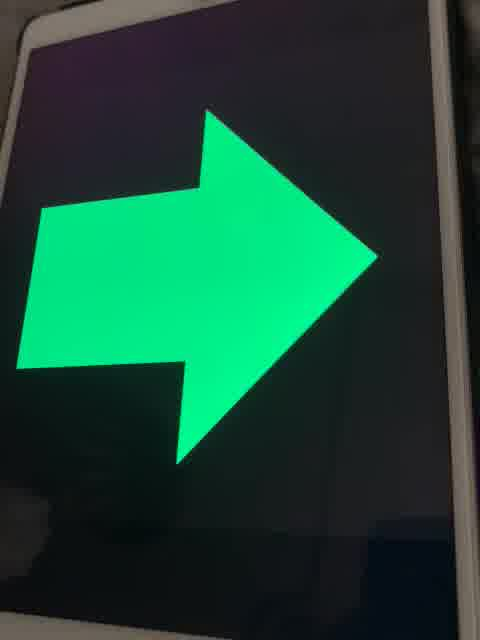right: (12, 101, 381, 467)
